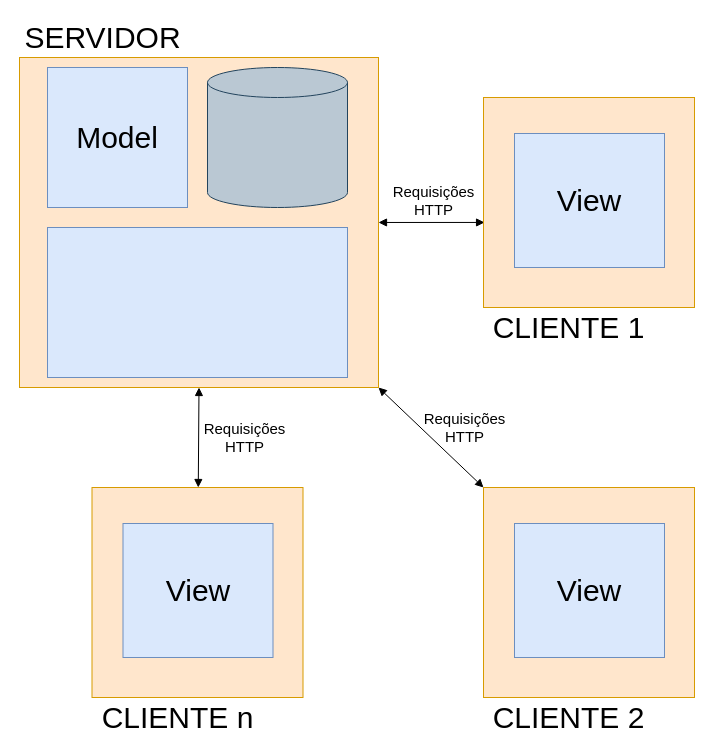
This 712x754 diagram has some shape labels left out. Here are the shapes that lost their labels. From the top down, the box of each, then its label:
(206, 66, 348, 208): Banco de Dados
(46, 226, 348, 378): Controller
